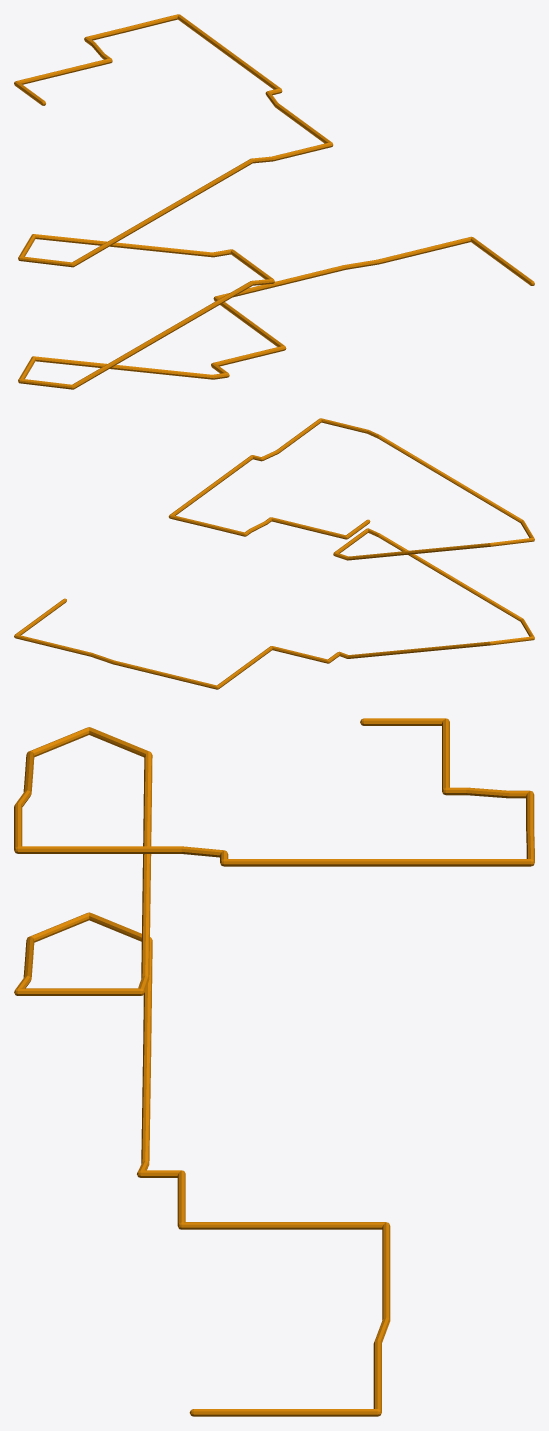
3 views of the same model, one above another, from view 1: azimuth 30°, elevation 25°; view 2: azimuth 150°, elevation 25°; view 3: azimuth 270°, elevation 25° (orthographic). The views are drawn at different scales.
Size of the model in its own units: 2356 by 1020 by 1274.
